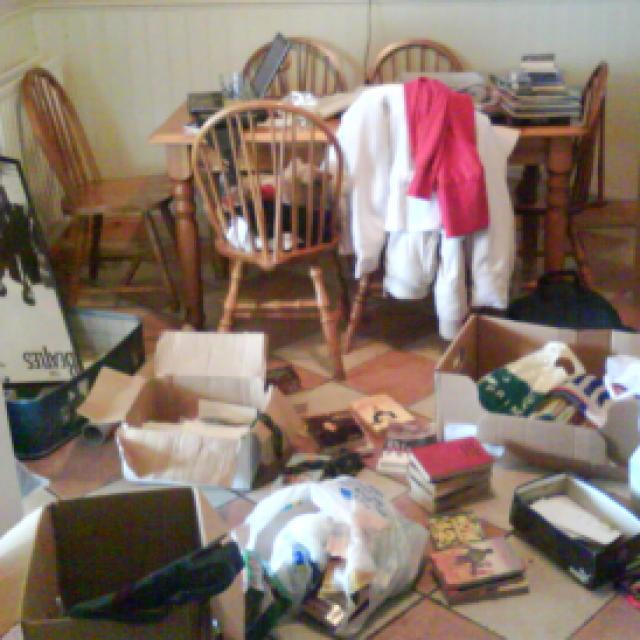mess: (0, 243, 640, 640)
